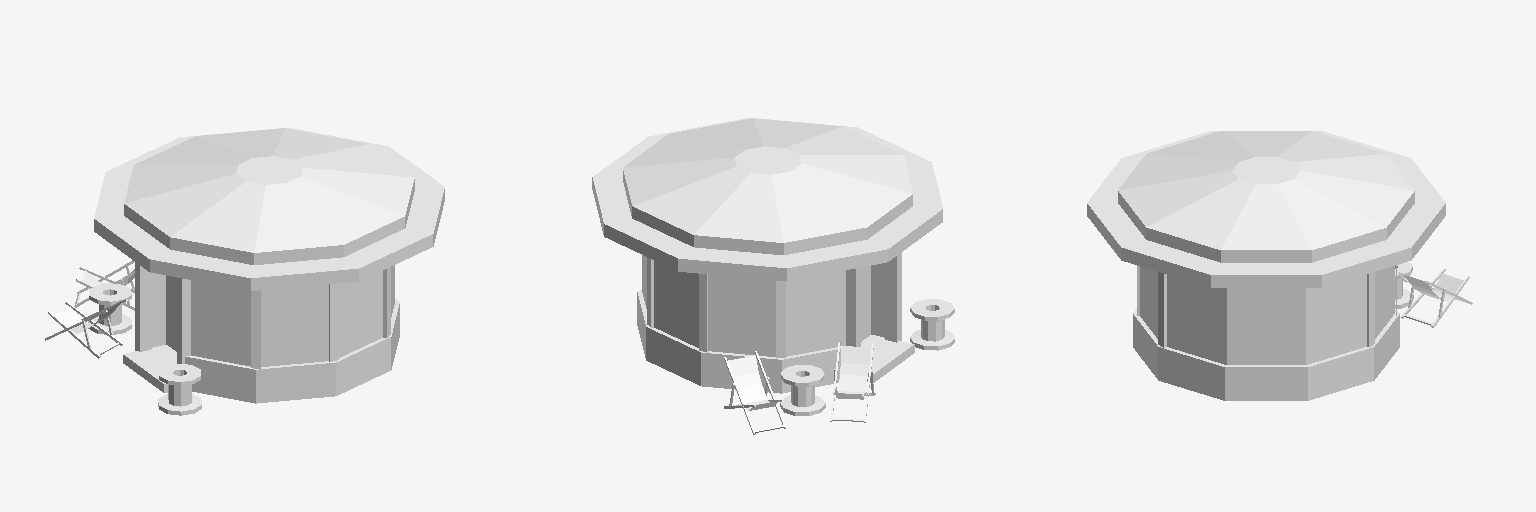
The model's file is kawiarnia.obj.
3 renders of one model, left to right at view 1: azimuth 30°, elevation 25°; view 2: azimuth 150°, elevation 25°; view 3: azimuth 270°, elevation 25°, orthographic.
Visible parts, largest first — view 1: kawiarnia; view 2: kawiarnia; view 3: kawiarnia.
Boxes of the visible parts, x1,y1,x2,y2 form: kawiarnia: [45, 128, 444, 415]; kawiarnia: [592, 118, 954, 434]; kawiarnia: [1087, 131, 1472, 400].
Size of the model in its own units: 413 by 227 by 447.